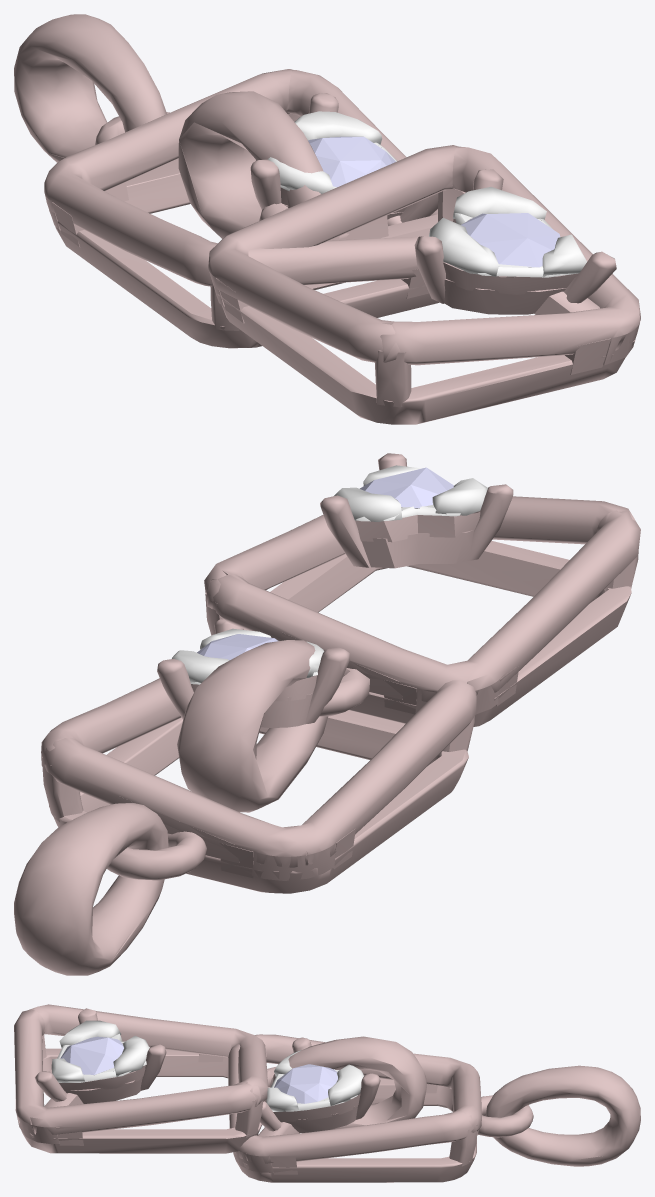
The model's file is DPN-D000736720.glb.
The picture shows the model from 3 angles, top to bottom: view 1: azimuth 30°, elevation 25°; view 2: azimuth 150°, elevation 25°; view 3: azimuth 270°, elevation 25°; orthographic projection. The views are drawn at different scales.
Visible parts, largest first — view 1: lowPolyMesh, highPolyMesh; view 2: lowPolyMesh, highPolyMesh; view 3: lowPolyMesh, highPolyMesh.
Part boxes in pixels (<box>): lowPolyMesh: <box>178,91,640,424</box>; highPolyMesh: <box>14,14,439,348</box>; lowPolyMesh: <box>177,453,640,812</box>; highPolyMesh: <box>14,619,476,975</box>; lowPolyMesh: <box>14,1004,426,1153</box>; highPolyMesh: <box>228,1034,640,1182</box>.
Size of the model in its own units: 0.00777 by 0.00553 by 0.0222.
